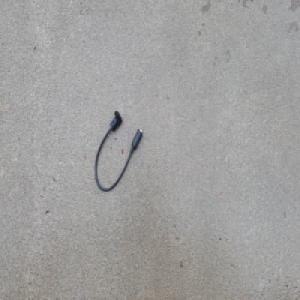Wire: (93, 108, 143, 193)
